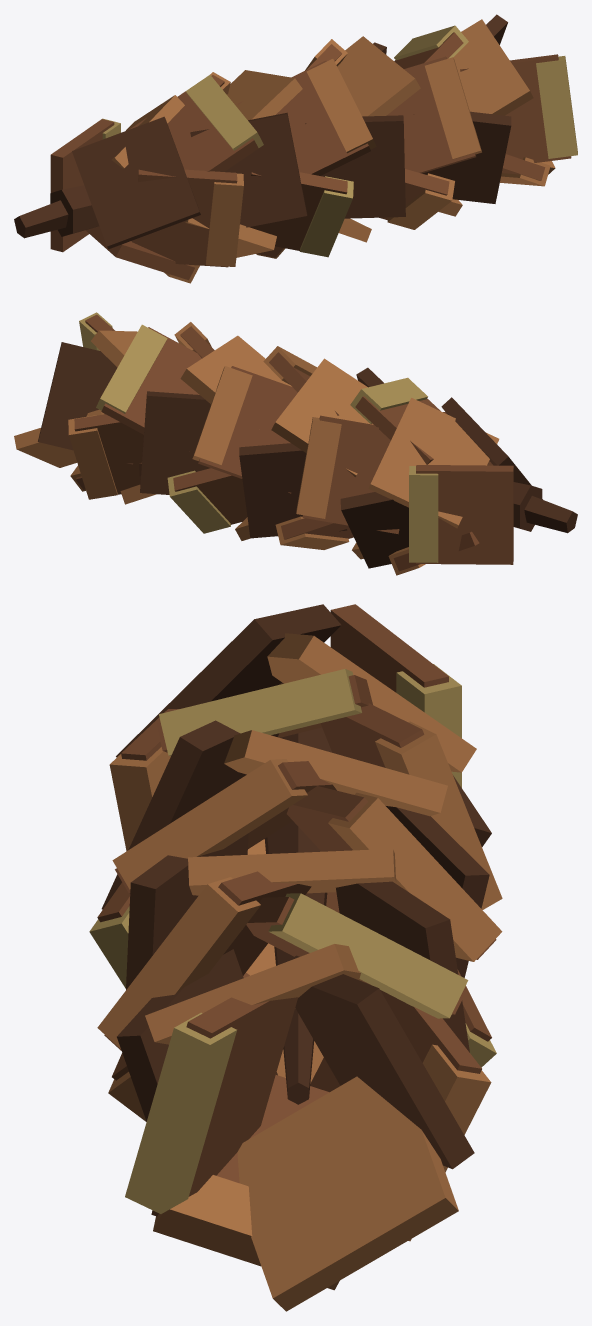
File: pinecone_closed.glb
The picture shows the model from 3 angles, top to bottom: view 1: azimuth 30°, elevation 25°; view 2: azimuth 150°, elevation 25°; view 3: azimuth 270°, elevation 25°; orthographic projection. The views are drawn at different scales.
Parts seen in each view (by area): view 1: PineconeClosed; view 2: PineconeClosed; view 3: PineconeClosed.
Boxes of the visible parts, bbox=[...] form: PineconeClosed: bbox=[14, 14, 577, 283]; PineconeClosed: bbox=[14, 312, 577, 575]; PineconeClosed: bbox=[89, 604, 502, 1311].
Size of the model in its own units: 0.062 by 0.0214 by 0.0213.
